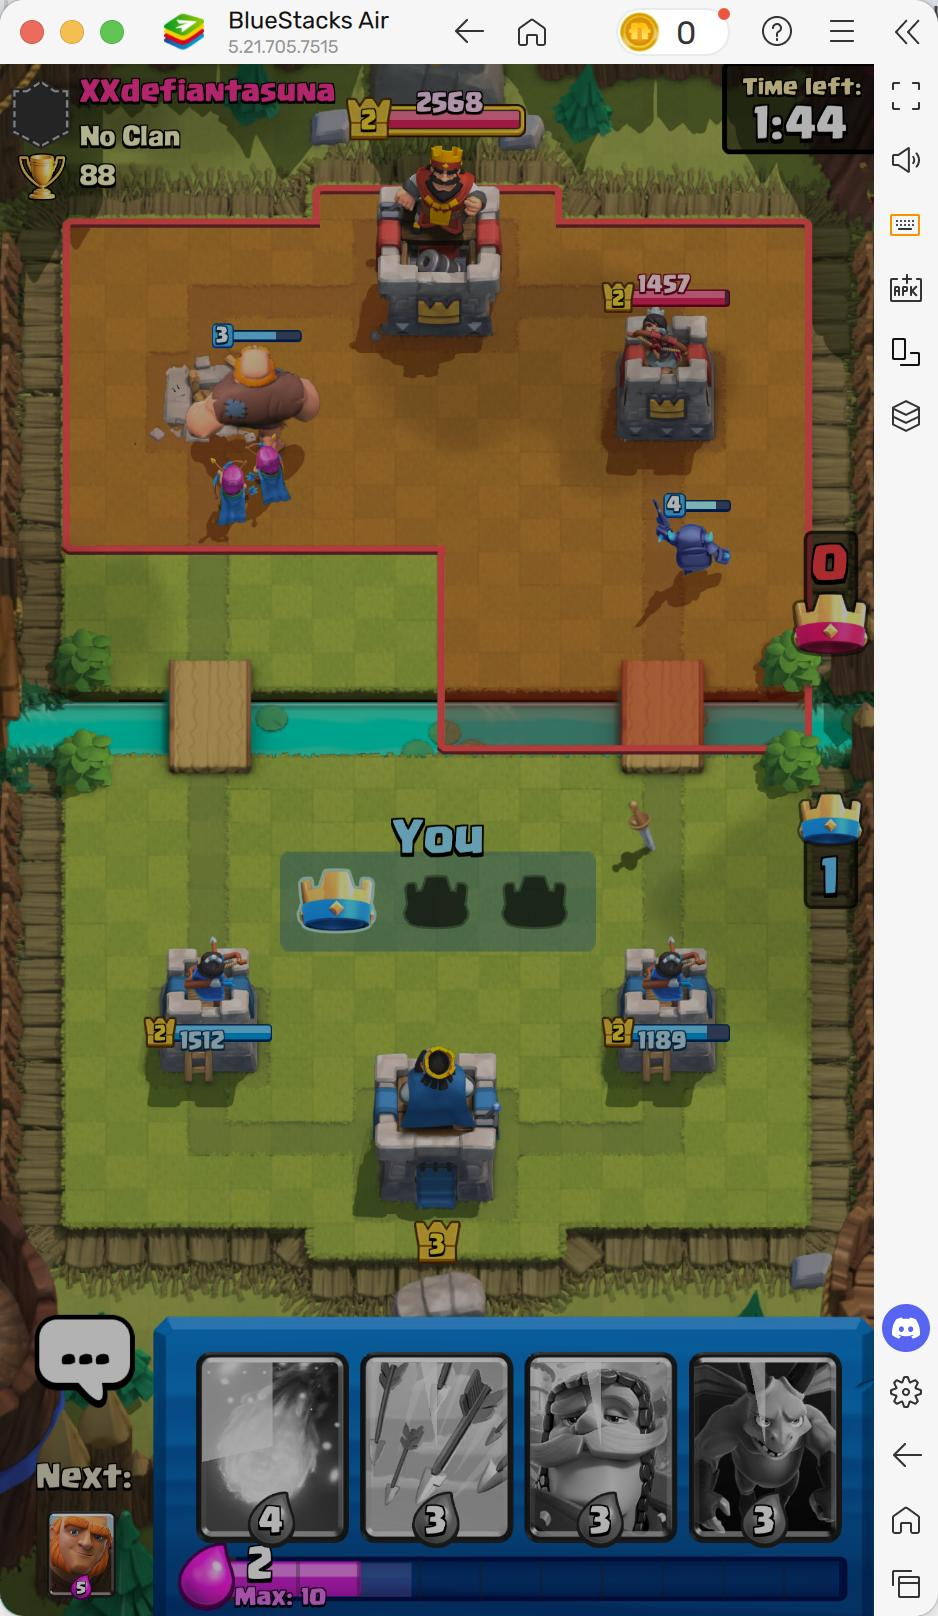1: (750, 100, 770, 143), (178, 1027, 192, 1054), (645, 1027, 659, 1051), (200, 1027, 212, 1052), (635, 271, 649, 295), (638, 1029, 647, 1051)
14: (613, 944, 720, 1076), (155, 944, 260, 1075)
2: (246, 1541, 276, 1586), (414, 88, 434, 116), (209, 1028, 228, 1052)
3: (586, 1500, 616, 1538), (422, 1501, 449, 1540), (750, 1502, 778, 1537)
4: (255, 1499, 289, 1539), (815, 104, 850, 142), (784, 103, 817, 142), (647, 271, 664, 295)
5: (431, 87, 449, 115), (186, 1028, 204, 1054), (661, 272, 679, 295), (75, 1579, 88, 1599)
7: (448, 87, 466, 115)
9: (676, 270, 693, 295)
Battle: (463, 89, 485, 116), (655, 1028, 672, 1052)
Enemy Tower: (669, 1029, 689, 1052)
Friendly Winner: (616, 314, 715, 443)
